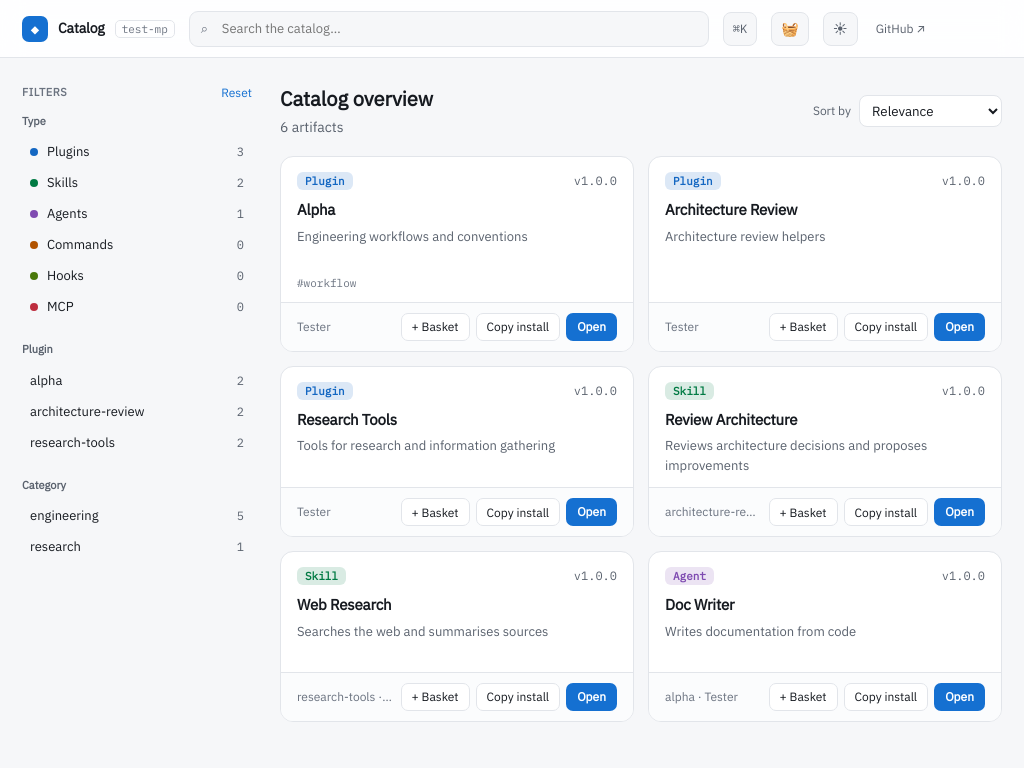
Test: search page › filters by a type facet in the URL and shows the empty state
Expected: the heading "Catalog overview" is shown, top-left (280, 84), bottom-right (433, 114)
Click the button "agents 1": (137, 214) top-left (22, 199), bottom-right (252, 228)
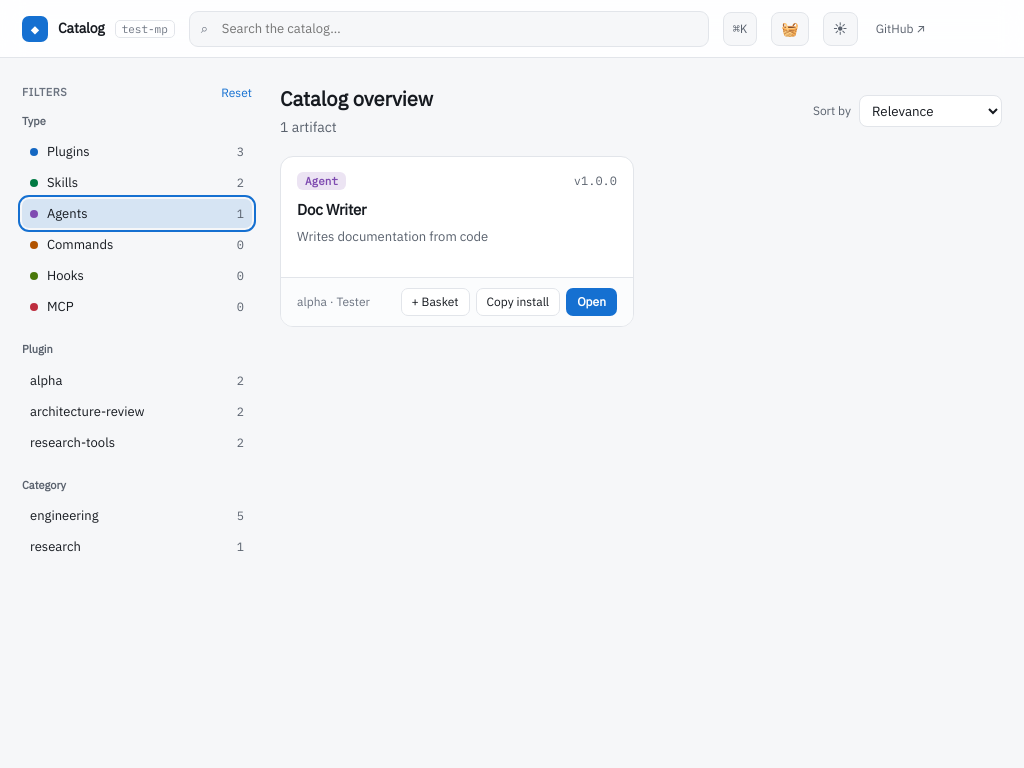
In the search field labelled "Search the catalog": (449, 28) top-left (189, 10), bottom-right (709, 46), type "zzzzqqqq"
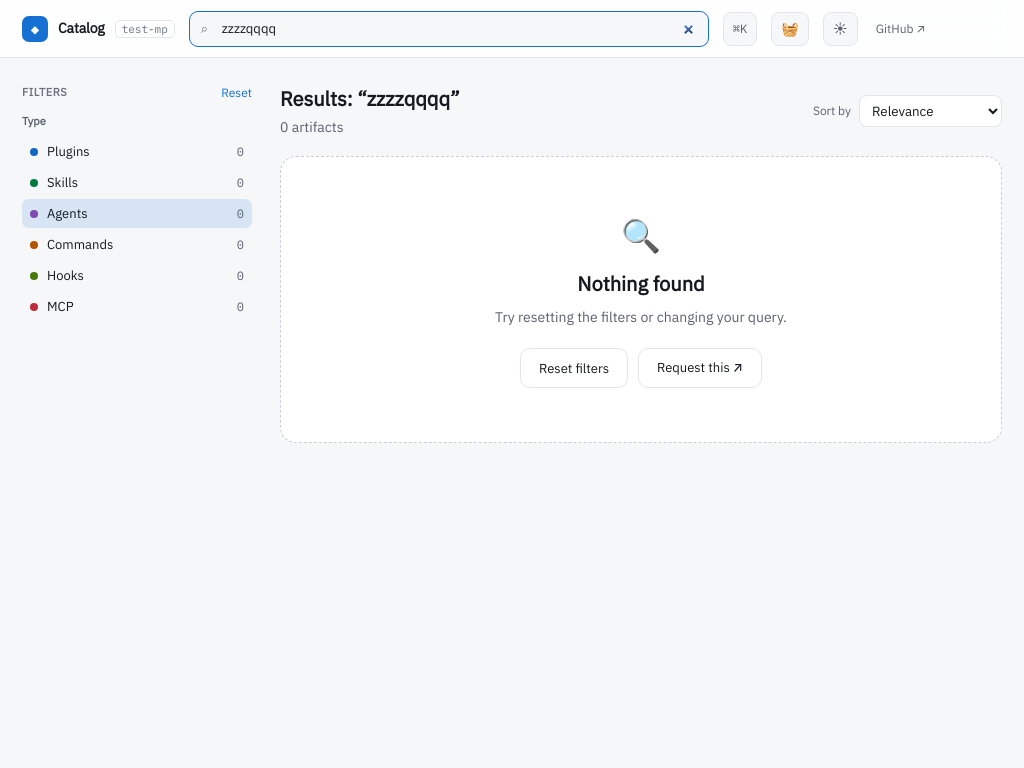
Result: the heading "Nothing found" is shown at top-left (577, 270), bottom-right (705, 297)
